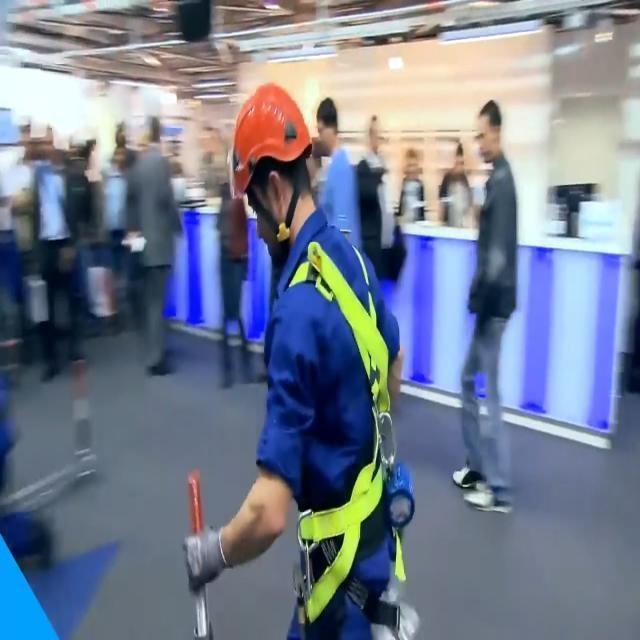Arnes_seguridad: (266, 226, 401, 633)
